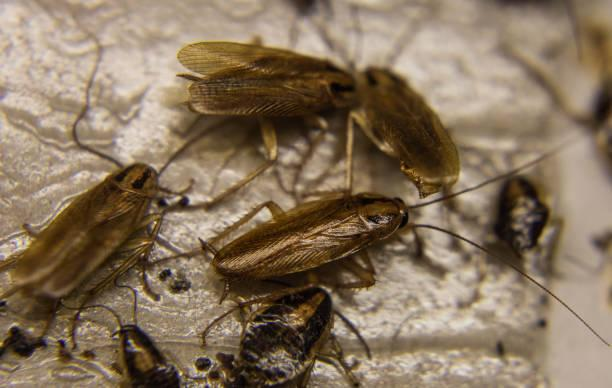cockroach: (2, 6, 606, 383), (180, 146, 612, 340), (305, 15, 532, 238), (0, 148, 183, 321), (151, 26, 364, 156), (182, 288, 378, 388), (63, 281, 203, 388)
